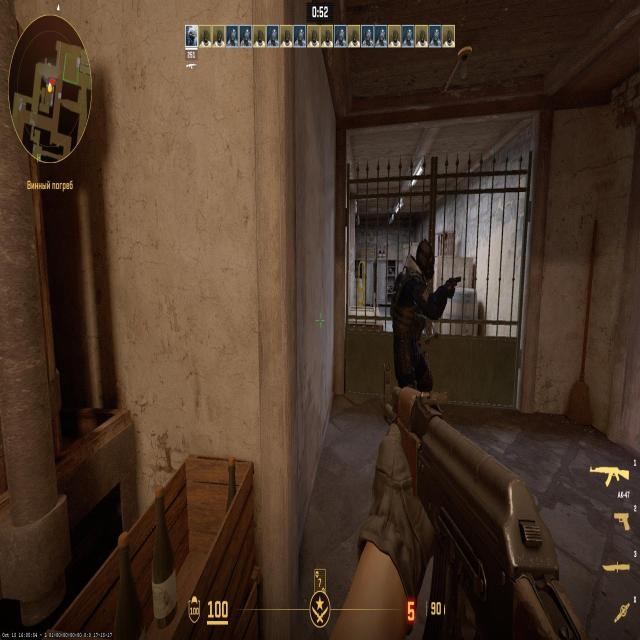CT: (401, 249, 426, 366)
CT_heat: (410, 264, 420, 290)
